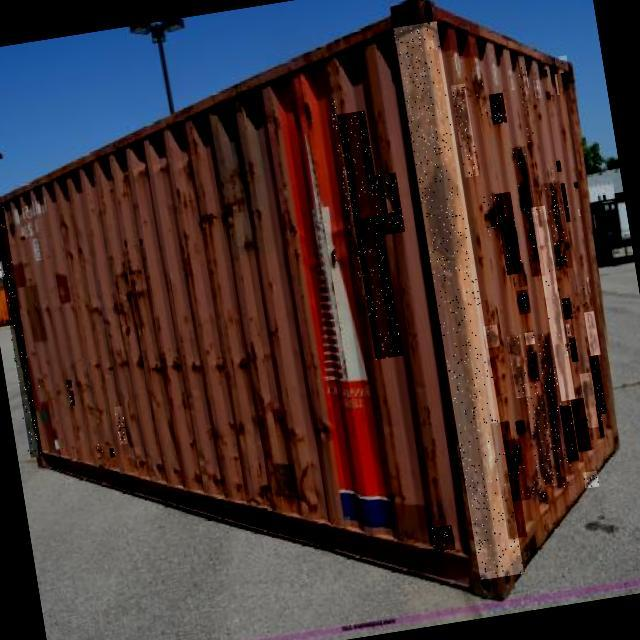Minor-Dent: (375, 172, 405, 235), (431, 525, 456, 553)
Rust: (393, 21, 524, 580), (338, 111, 404, 360), (0, 206, 42, 458), (531, 206, 576, 402), (329, 99, 368, 296), (534, 332, 574, 488), (511, 146, 545, 278), (491, 421, 528, 540), (524, 381, 560, 488), (543, 181, 573, 270), (451, 84, 479, 178), (495, 192, 524, 275), (505, 438, 530, 502), (506, 335, 530, 398), (481, 193, 506, 242), (580, 373, 601, 429), (560, 405, 580, 462), (571, 398, 592, 452), (589, 355, 607, 415), (471, 71, 488, 116), (584, 311, 601, 356), (524, 345, 542, 382), (488, 93, 507, 125), (515, 55, 528, 98), (114, 406, 128, 445), (383, 174, 395, 213), (522, 97, 534, 135), (533, 478, 549, 506), (483, 325, 500, 349), (516, 289, 531, 315), (561, 183, 571, 222), (516, 263, 528, 290), (596, 404, 605, 438), (553, 55, 569, 74), (583, 471, 599, 489), (569, 337, 579, 362), (562, 298, 573, 320), (526, 133, 535, 159), (329, 249, 338, 270), (536, 207, 543, 228), (515, 421, 526, 434), (525, 332, 536, 345), (67, 391, 75, 407), (533, 81, 540, 99), (526, 418, 533, 435), (555, 74, 560, 95), (527, 486, 535, 499), (37, 374, 44, 387), (97, 444, 105, 455), (566, 324, 572, 337), (526, 71, 530, 88), (556, 161, 562, 172), (587, 278, 591, 293), (581, 286, 587, 296), (67, 380, 73, 389), (546, 91, 551, 100), (110, 448, 115, 457), (543, 69, 548, 77), (513, 151, 517, 160), (574, 183, 579, 190), (582, 300, 587, 307), (552, 170, 555, 180), (533, 104, 538, 109), (513, 279, 517, 285), (551, 94, 555, 100), (565, 350, 569, 356), (578, 209, 581, 216), (565, 343, 569, 348), (577, 306, 580, 311), (503, 488, 505, 495)
